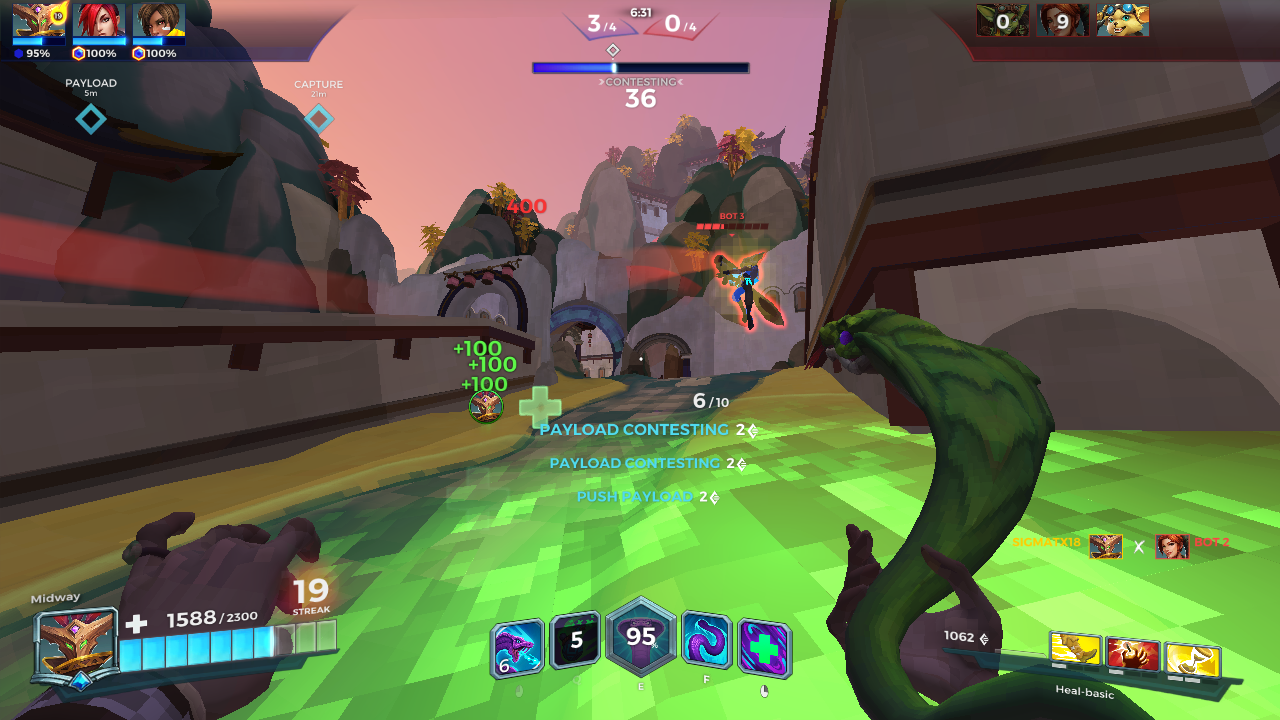model: (706, 246, 784, 340)
